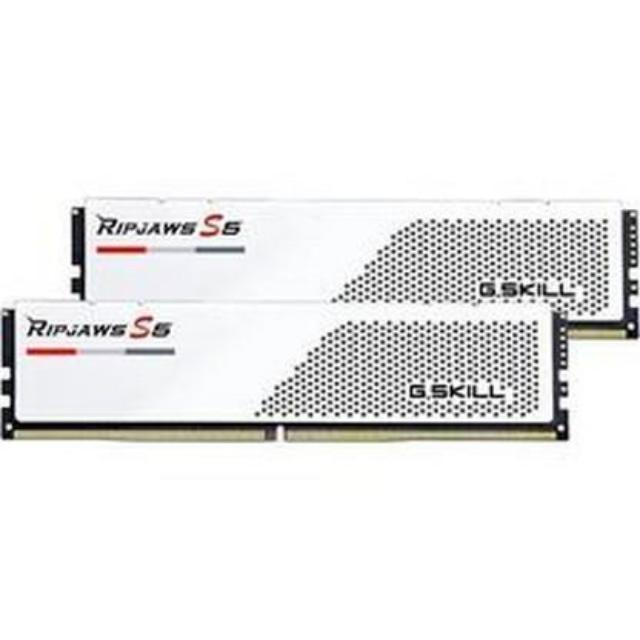RAM: (0, 169, 640, 463)
